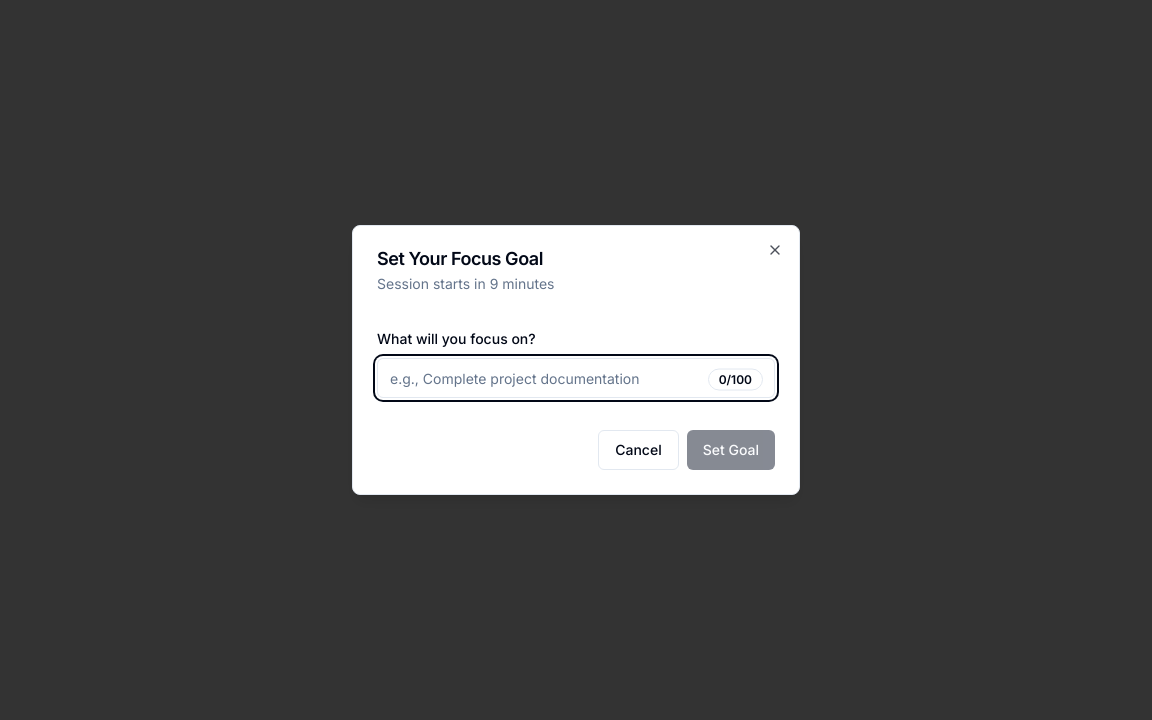
it: TaskSubmissionModal › updates character count as user types
Type "Hello world" into the field at (576, 378), box [377, 358, 775, 398]
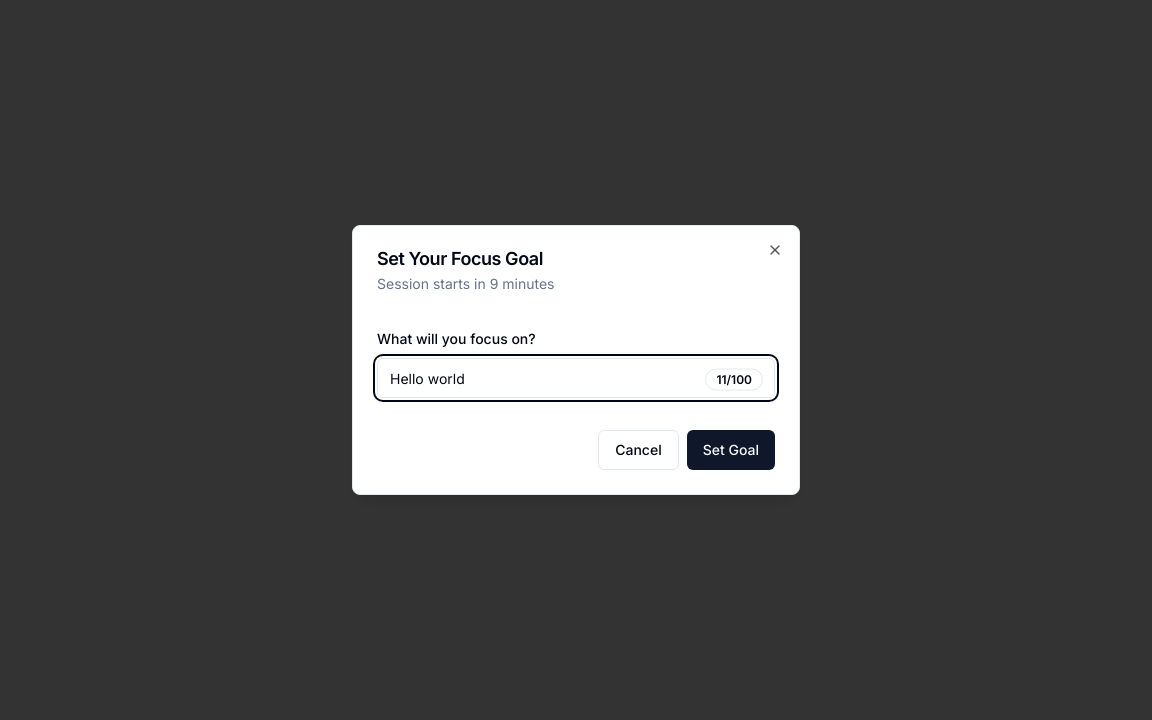
expect the text "11/100" is shown: met, box [705, 368, 763, 390]
